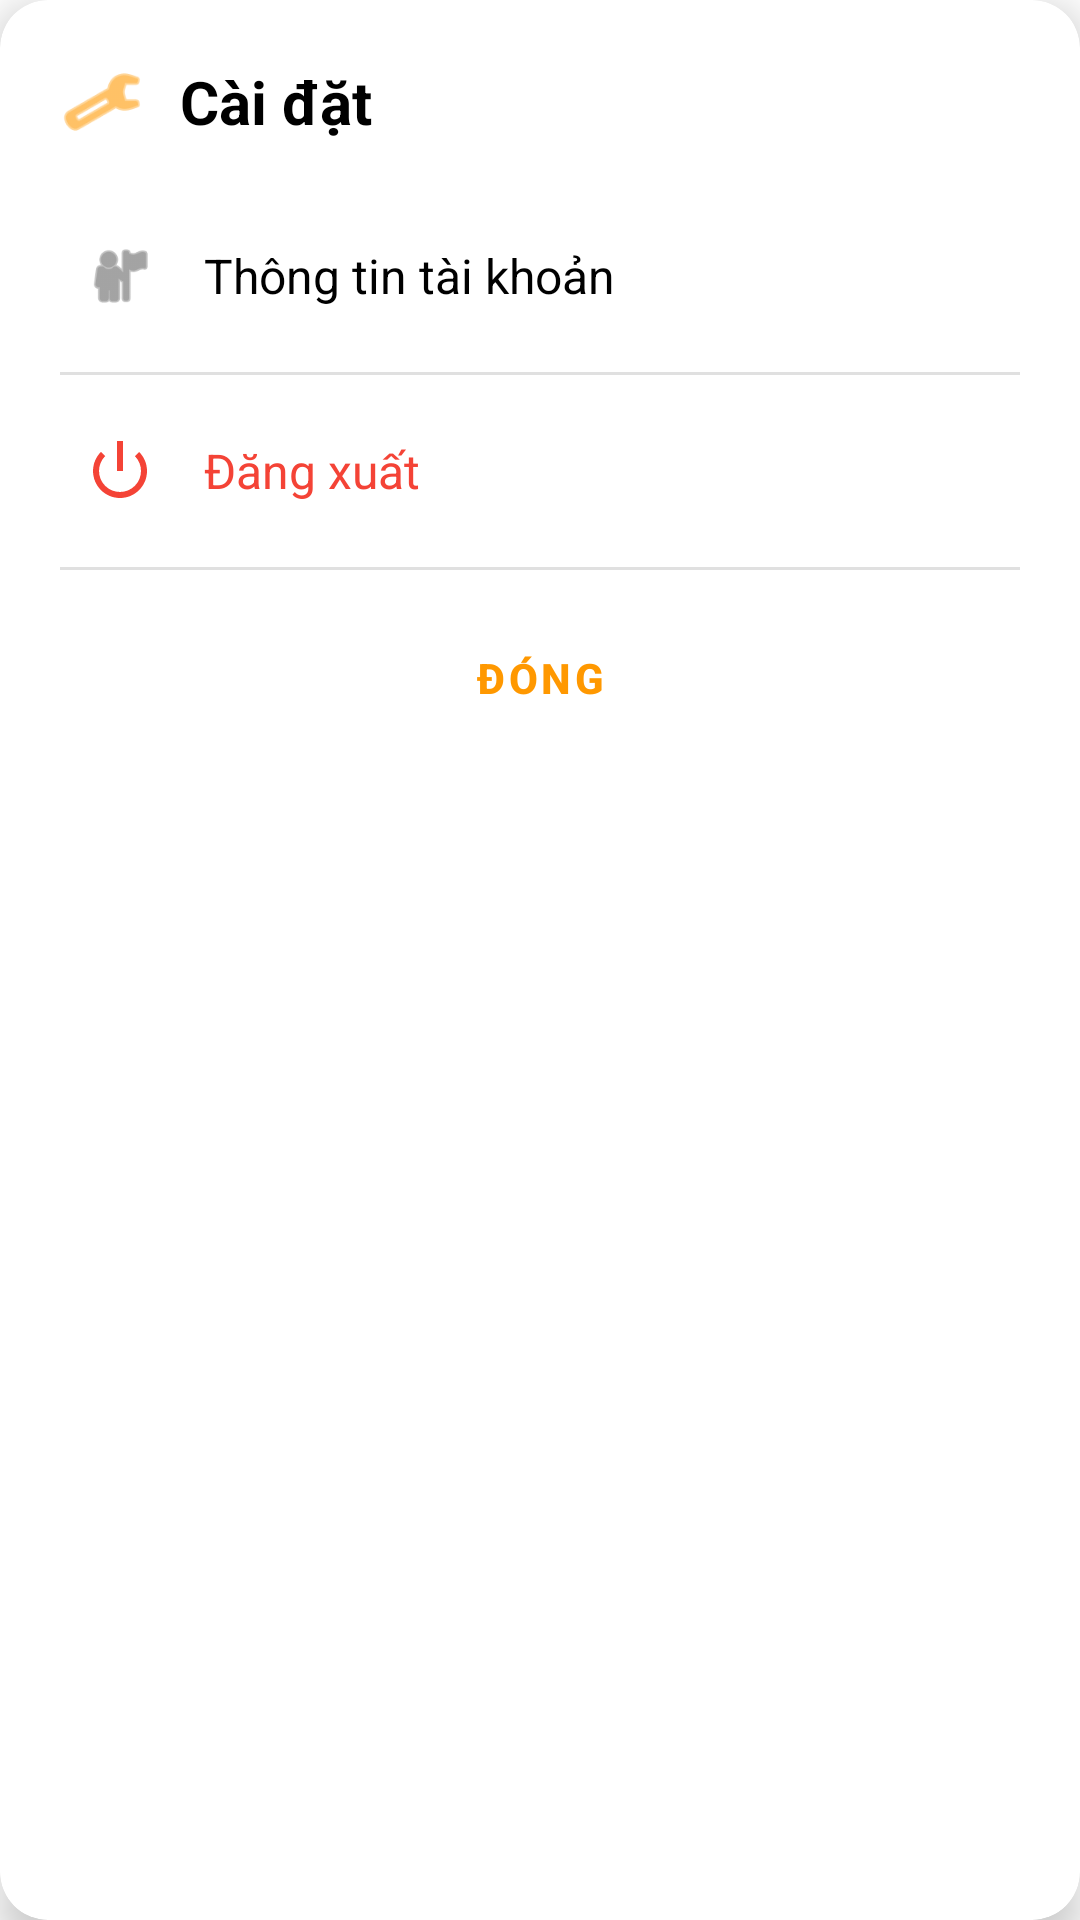

Icons on this 1080px×1920px Android screen, each with its box as bbox(x1, y1, x2, y2):
Account: bbox(94, 249, 148, 303)
Settings: bbox(64, 73, 140, 131)
